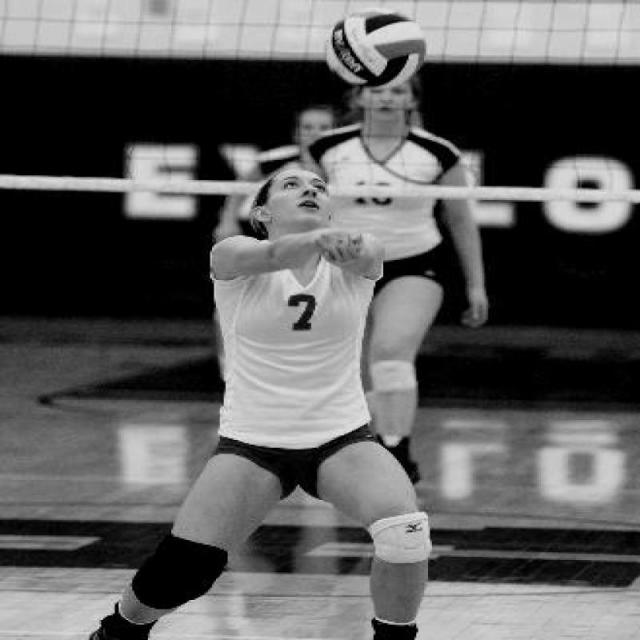volleyball: (323, 7, 426, 84)
